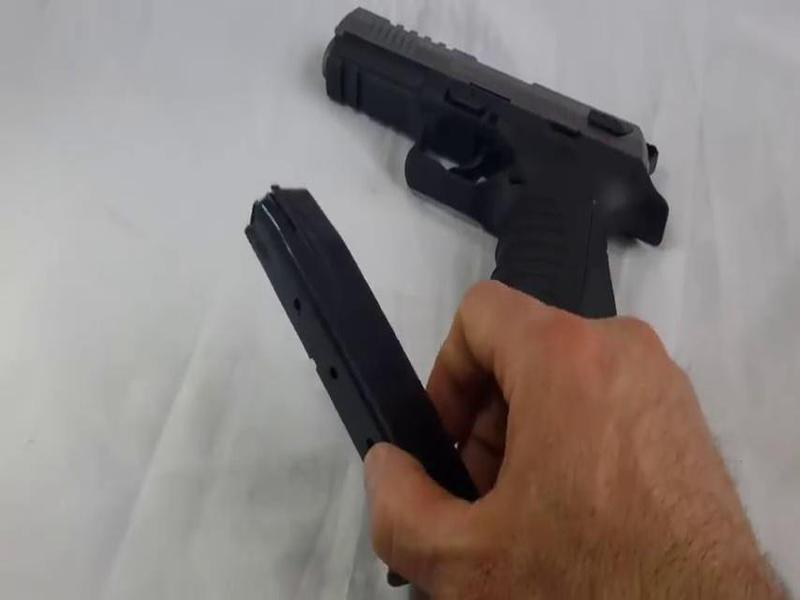Pistola: (320, 4, 678, 331)
